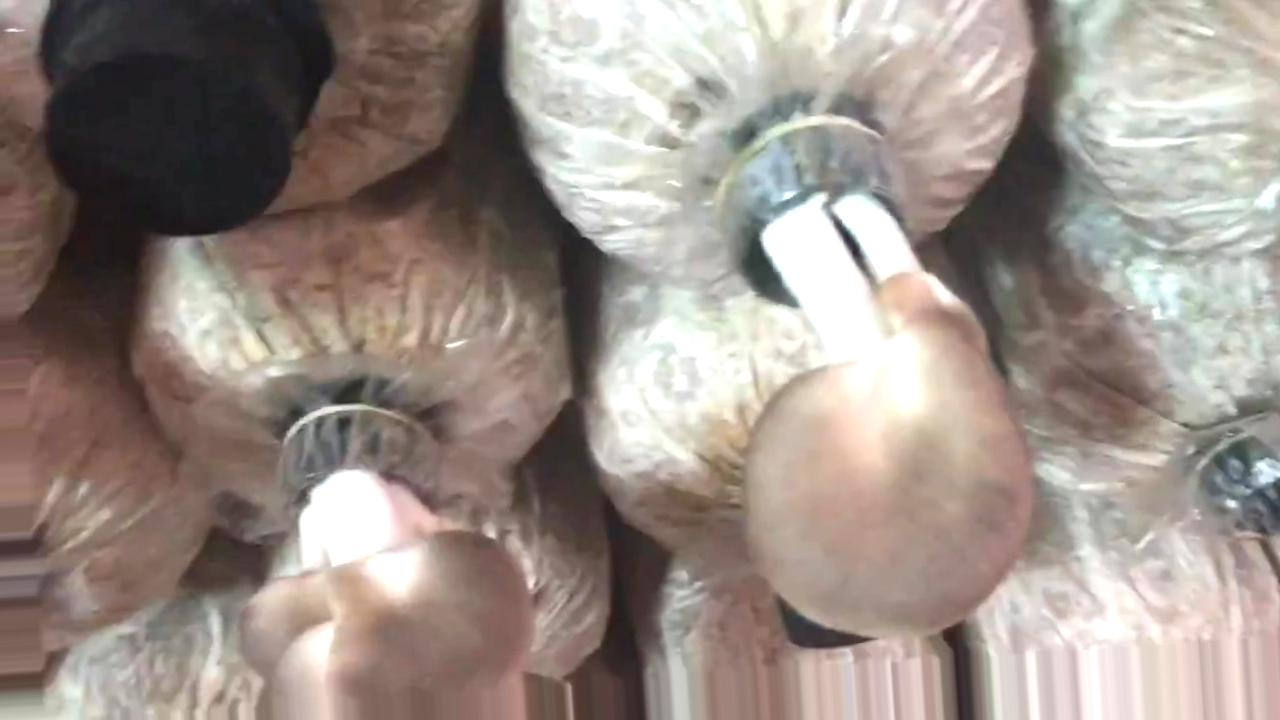nam: (745, 126, 1032, 640), (240, 413, 531, 720)
